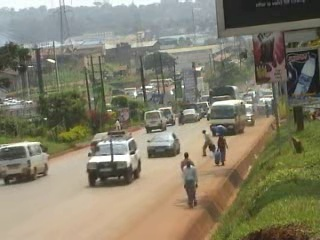Car: (84, 130, 142, 188), (88, 128, 134, 152), (145, 130, 183, 159), (180, 106, 200, 124)
